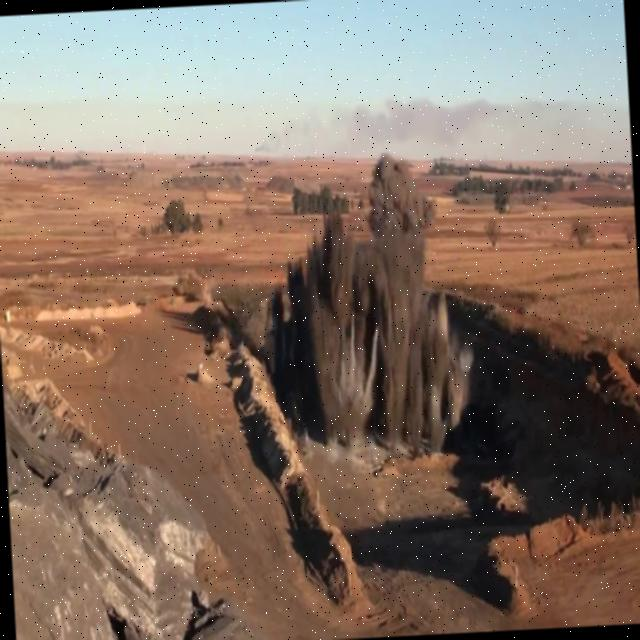explosion: (256, 140, 512, 503)
